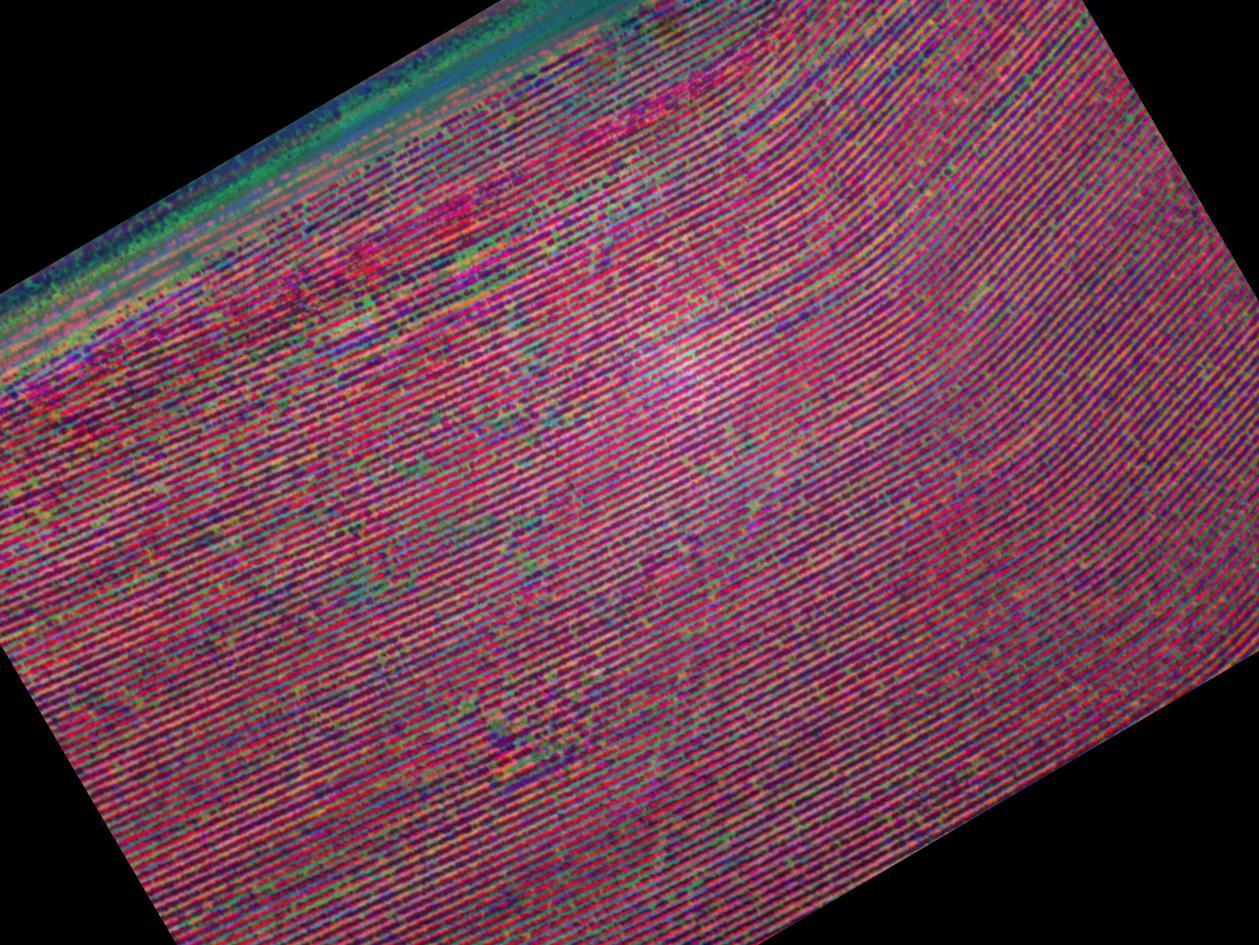dc: (488, 646, 623, 775), (453, 168, 642, 260), (289, 292, 428, 377), (322, 519, 431, 617)
